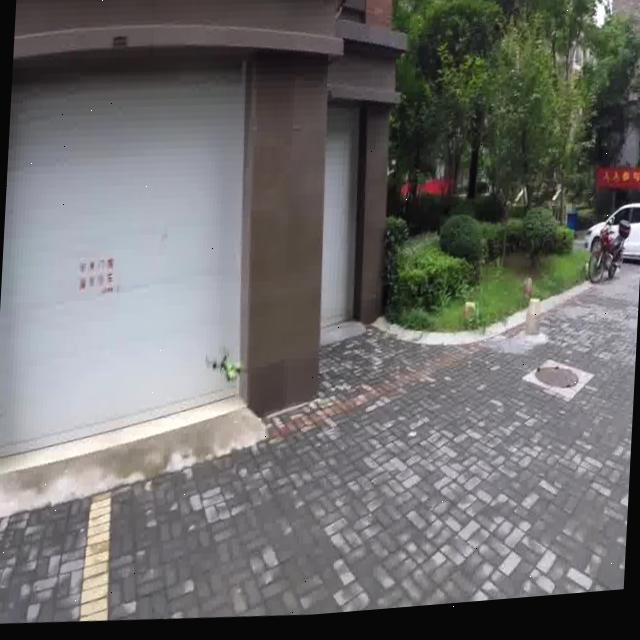drone: (211, 343, 246, 391)
